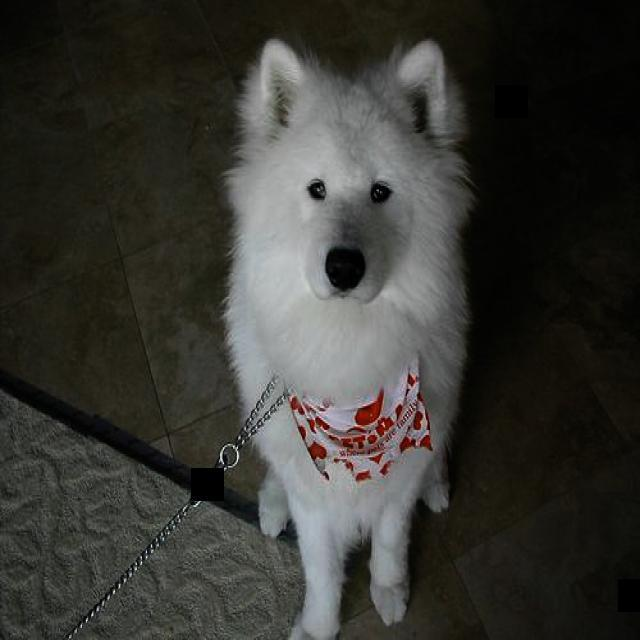adult_dog: (223, 37, 478, 640)
